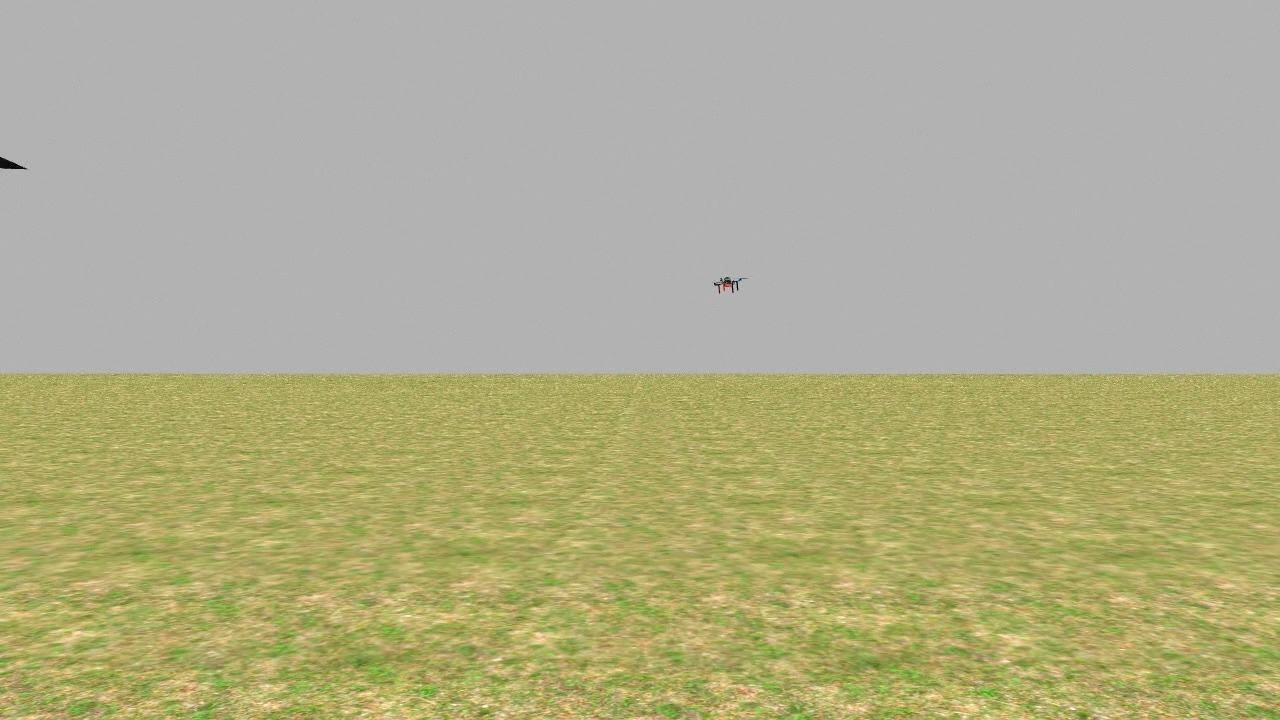UAV: (707, 266, 750, 304)
